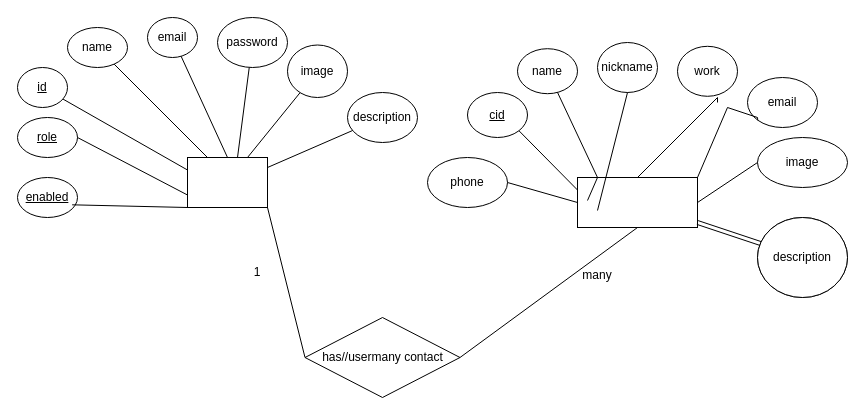
Image size: 865x415. Some labels were removed from this diagram. The centre of each missing label's shape, as x and y in pixels:
"contact" goes at pixel 637 202.
"user" goes at pixel 227 182.
